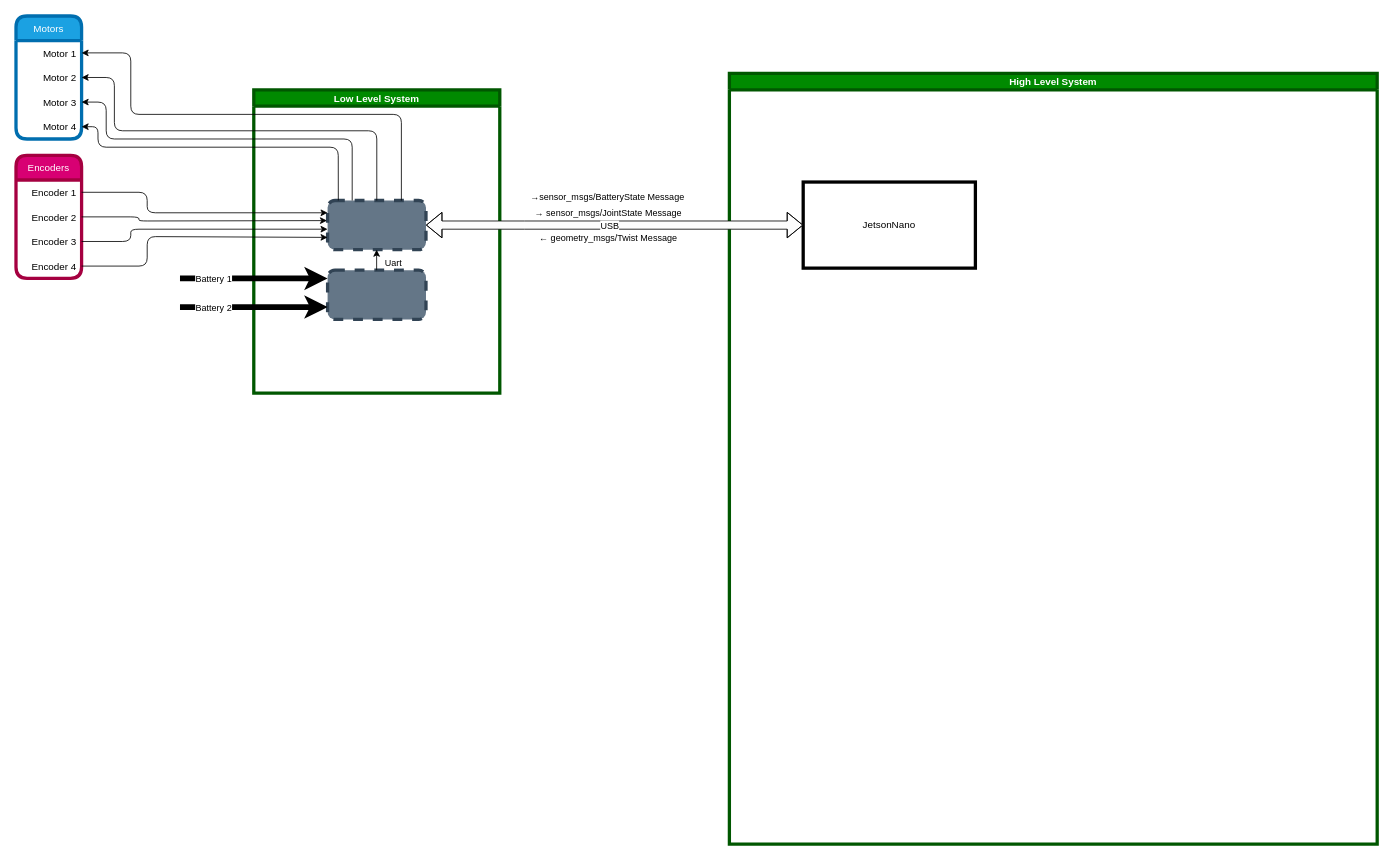
Some shapes in this 1392 by 859 pixel diagram are drawn without their labels. Each missing label, with the centre of its shape:
"BatteryMonitor" belongs at pixel 376 294.
"OpenCM904" belongs at pixel 376 224.
